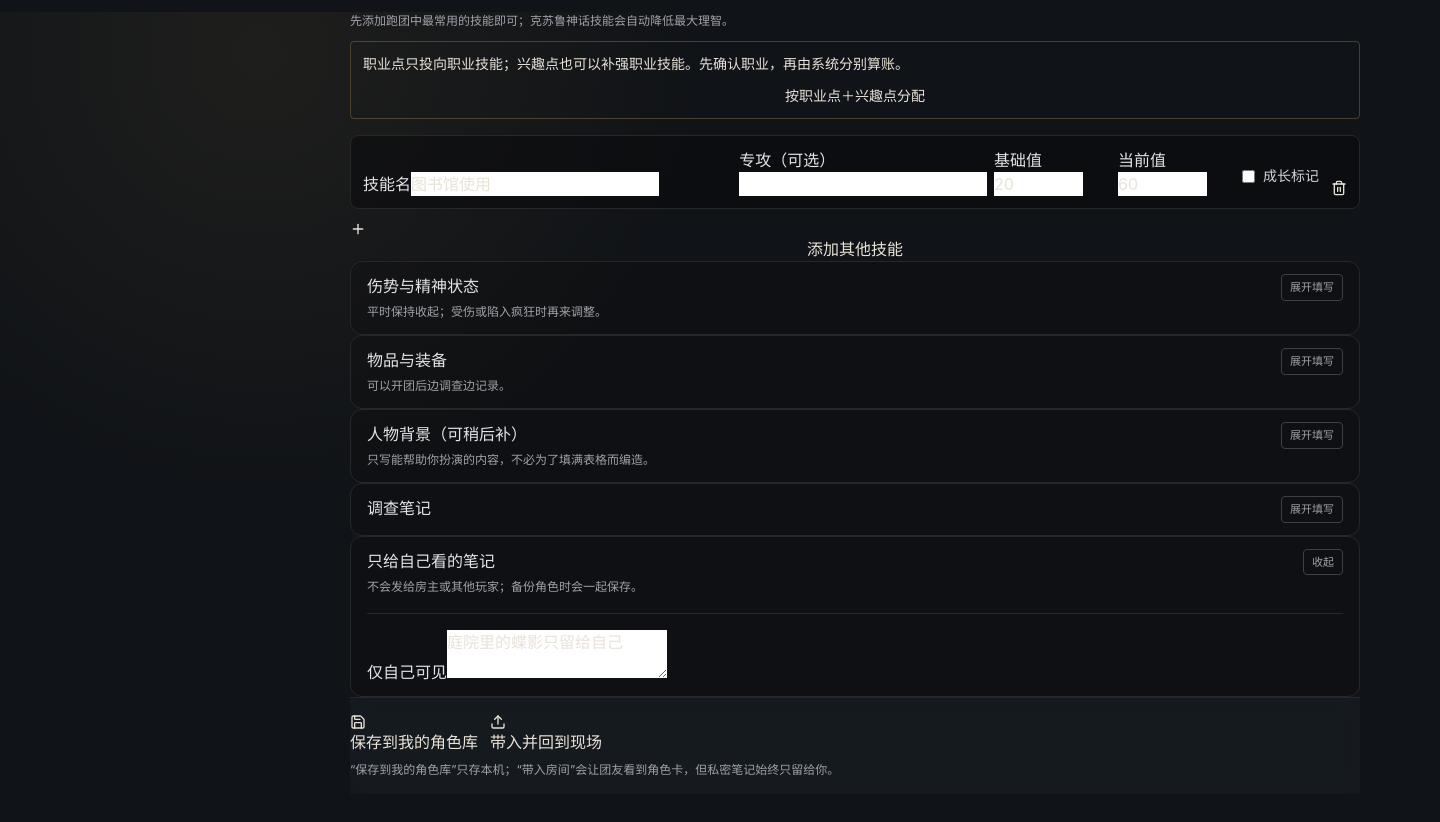
Test: CharactersView permissions and editing › selects the most recently used local investigator in a new room and keeps that handoff after remount
Later steps or results of the test are not shown.
Click the text "只给自己看的笔记". click: (431, 560)
box: x1=367 y1=550 x2=495 y2=570
(page scrolled)
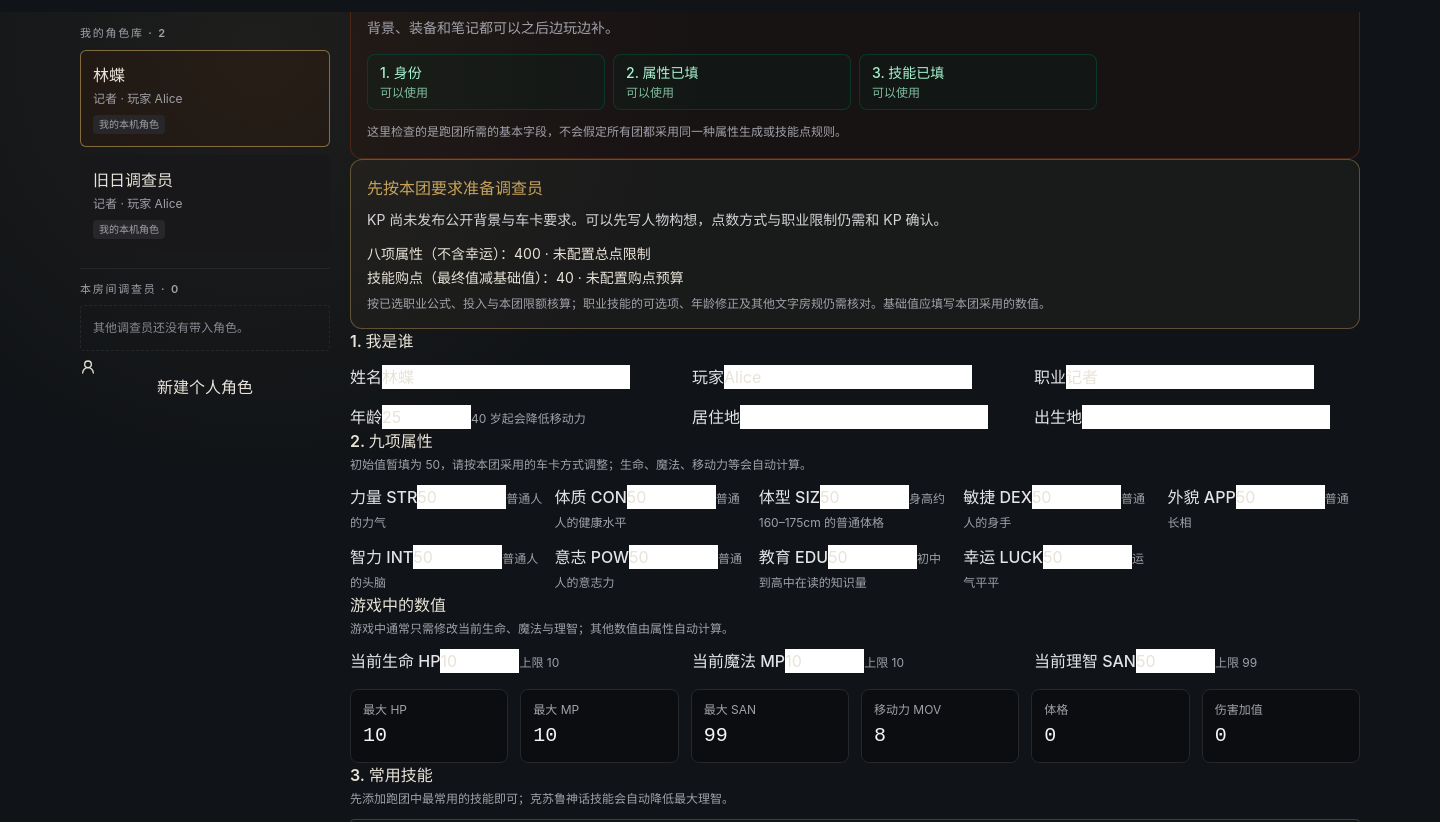
Type "东京" into the field labelled "居住地". click: (864, 417)
box: x1=740 y1=405 x2=988 y2=429
(page scrolled)
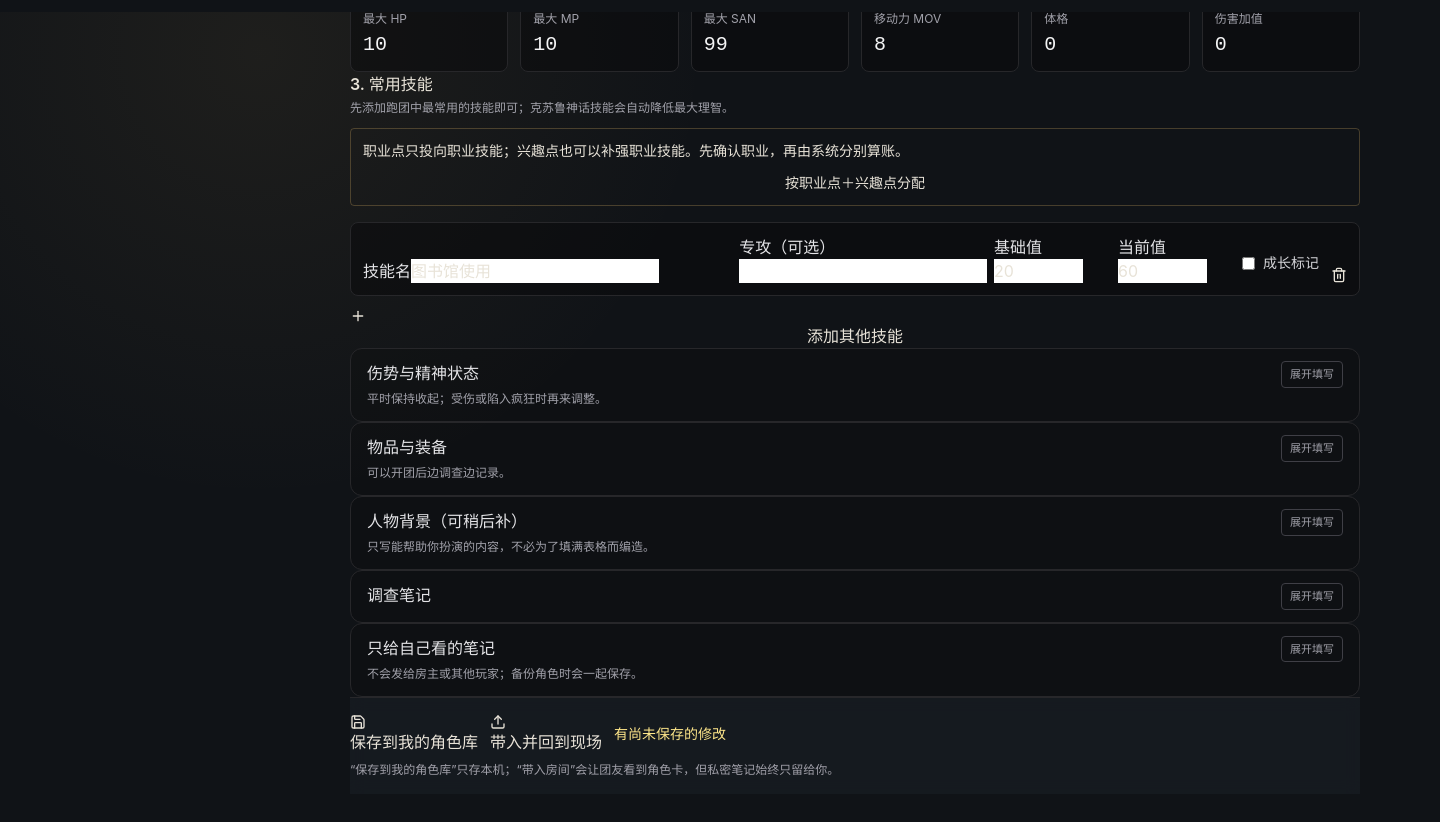
Expected: the button "保存到我的角色库" is enabled, x1=350 y1=714 x2=478 y2=754
